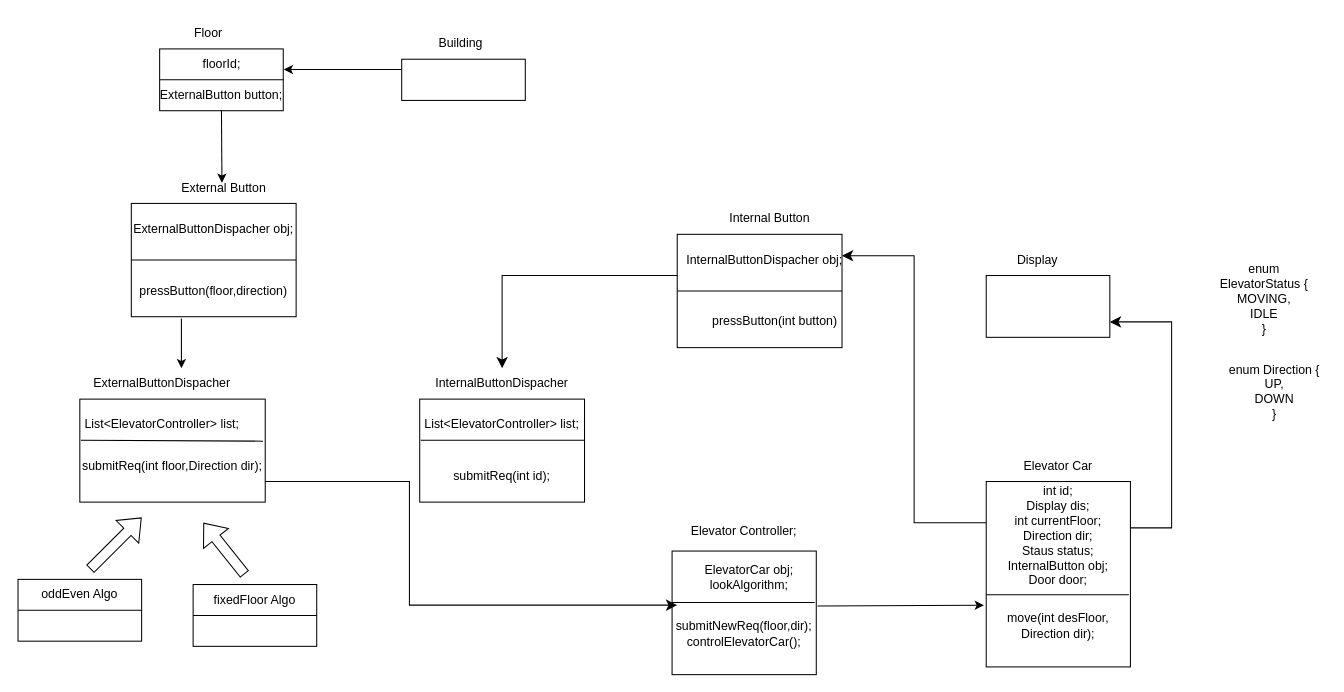
Some shapes in this 1344 by 692 pixel diagram are drawn without their labels. The shapes that lost their labels are listed below. From the top down, each one's centre as x and y in pixels, then its label:
At point (463, 79): "List<Floor> list".
At point (1047, 305): "int floor; Direction dr;".
